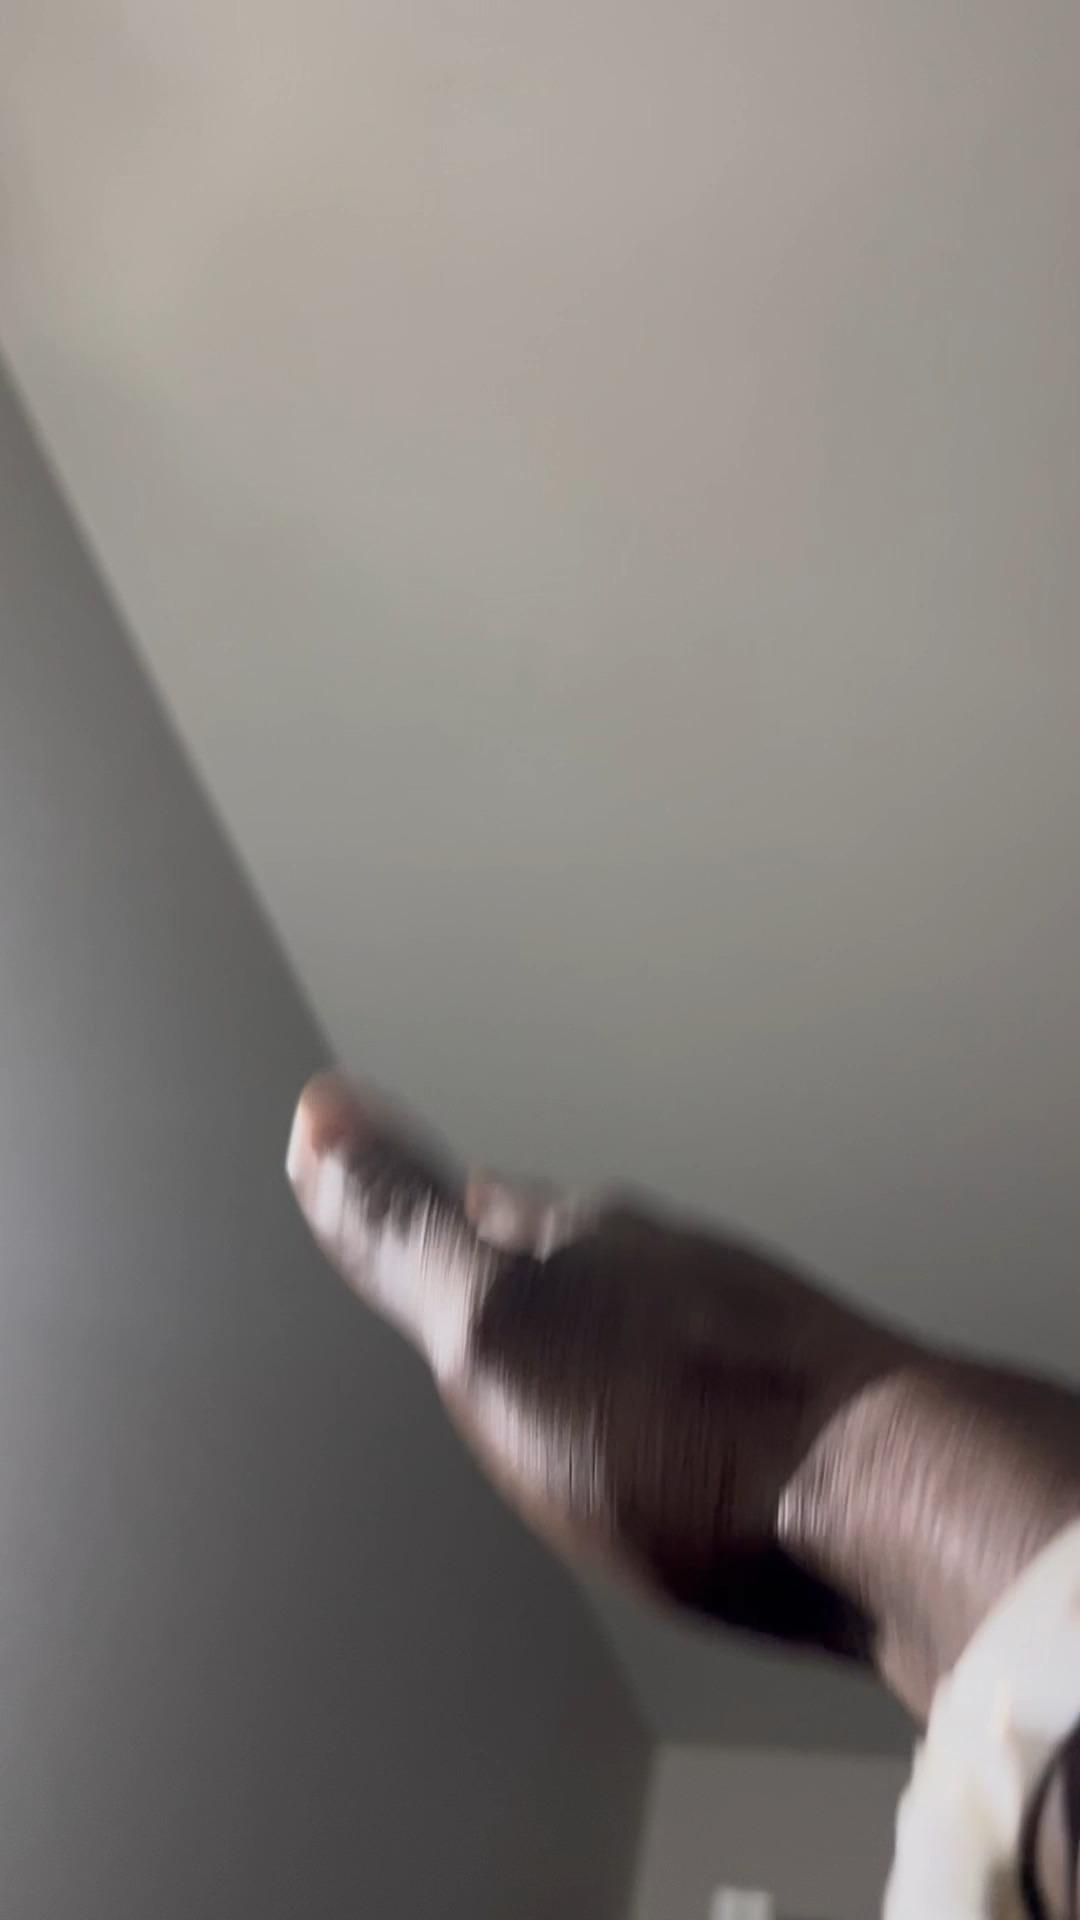Paper: (277, 1069, 930, 1663)
